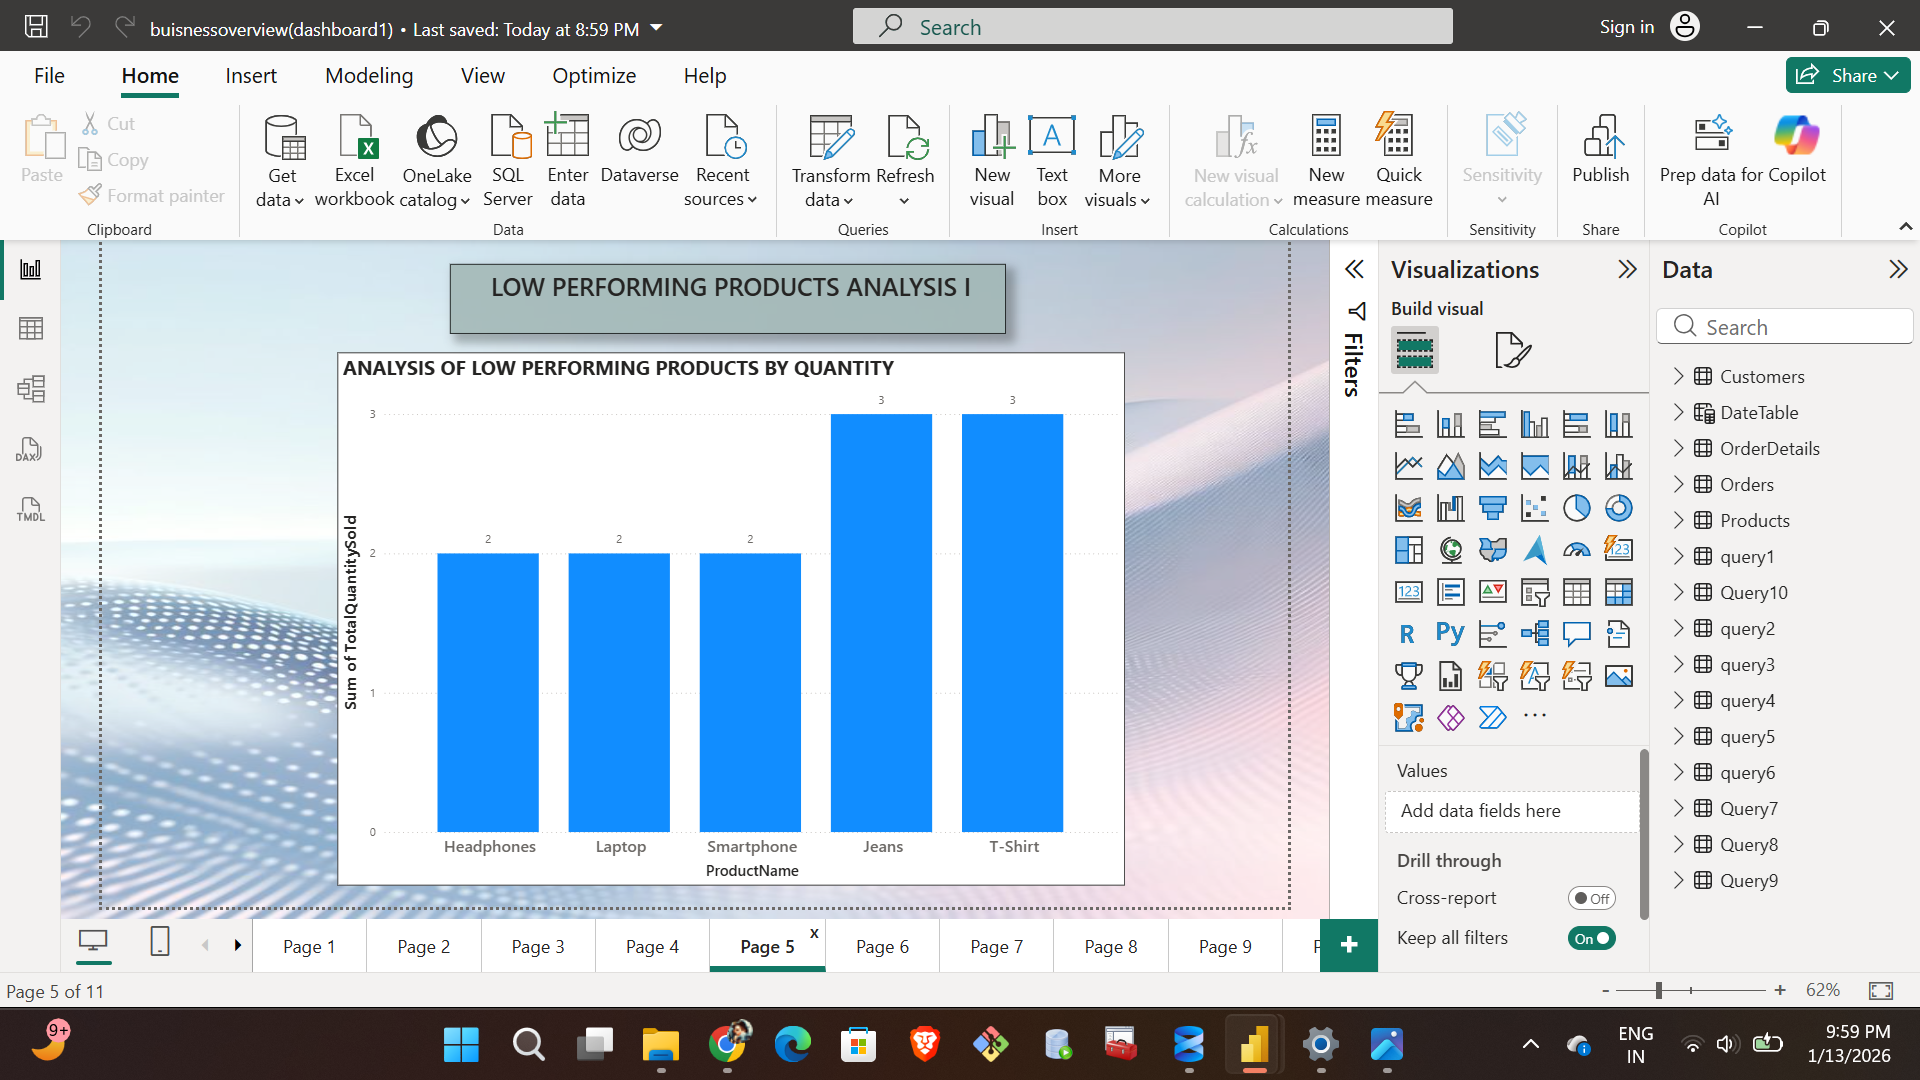

Layout of this report page (visuals, bound fields, positions):
{"tool":"powerbi","page":{"name":"Page 5","canvas":[1280,720],"ordinal":4},"visuals":[{"type":"lineClusteredColumnComboChart","title":"ANALYSIS OF LOW PERFORMING PRODUCTS BY QUANTITY","fields":{"Category":["query4.ProductName"],"Y":["Sum(query4.TotalQuantitySold)"]},"box":[255,121.7,850,575],"z":0},{"type":"textbox","box":[375,26.7,600,75],"z":1}]}

Visuals, with their boxes on the page's 1280x720 design canvas (x1, y1, x2, y2). These are canvas units, not pixel positions in the 1920x1080 screenshot, which may show the page scaled, cropped or inside an application window:
"ANALYSIS OF LOW PERFORMING PRODUCTS BY QUANTITY" lineClusteredColumnComboChart: [left=255, top=122, right=1105, bottom=697]
textbox: [left=375, top=27, right=975, bottom=102]
